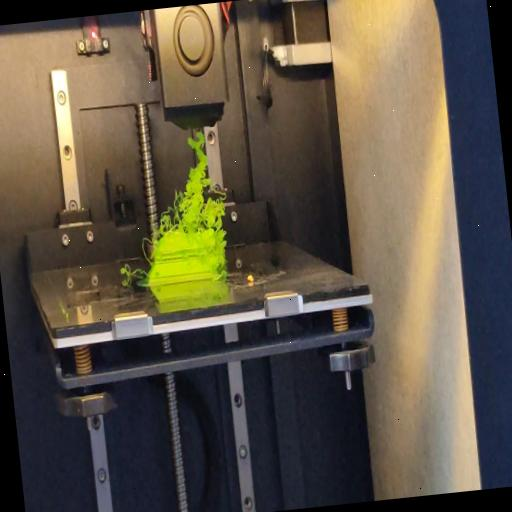spaghetti: (146, 128, 228, 242), (212, 232, 230, 278), (118, 260, 149, 278), (140, 236, 153, 258)
